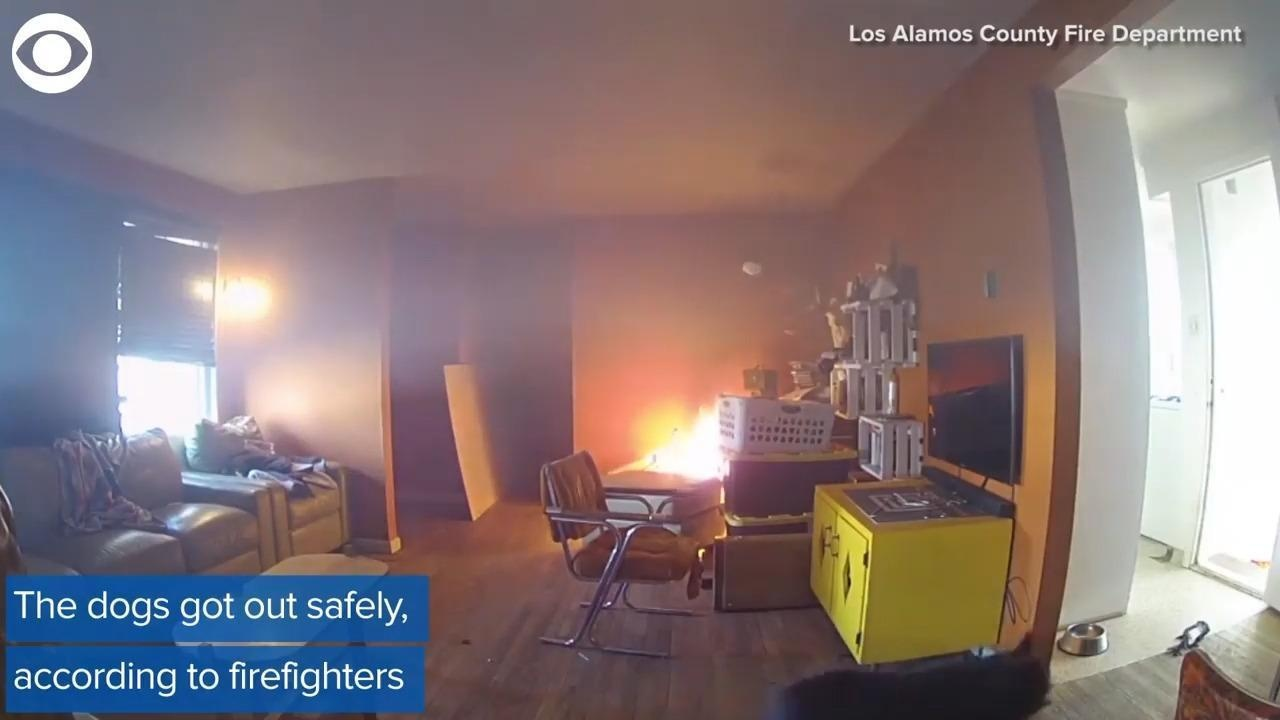fire: (604, 385, 744, 494)
